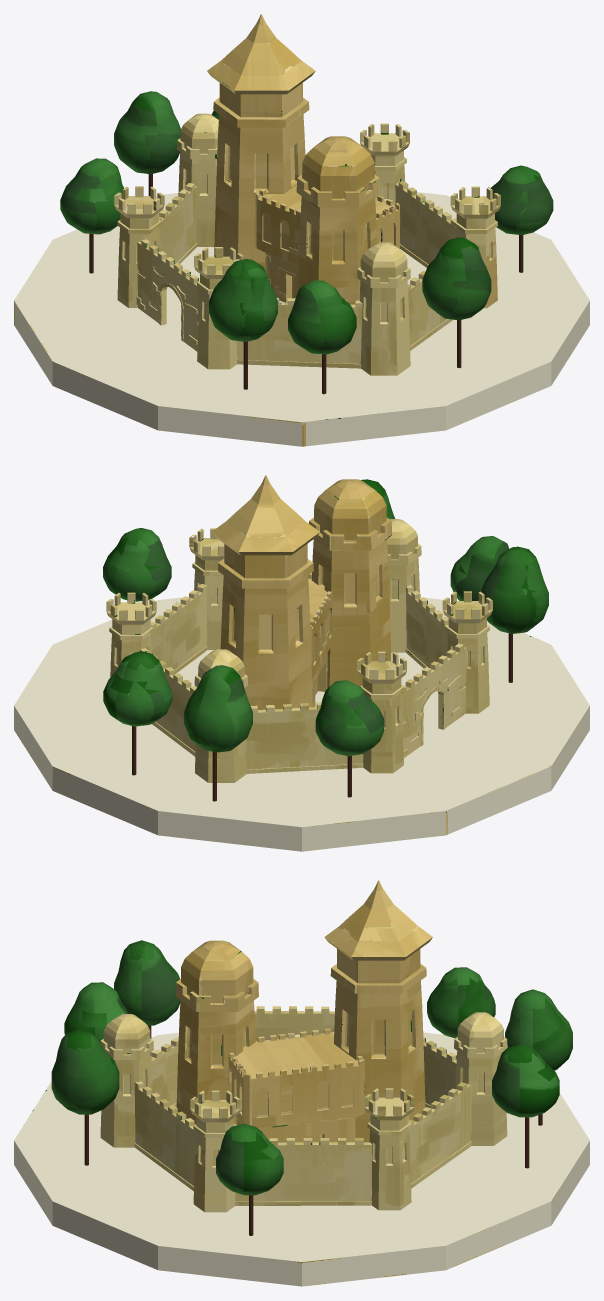
File: castle_texture.glb
The picture shows the model from 3 angles, top to bottom: view 1: azimuth 30°, elevation 25°; view 2: azimuth 150°, elevation 25°; view 3: azimuth 270°, elevation 25°; orthographic projection.
Parts seen in each view (by area): view 1: tour3.003; view 2: tour3.003; view 3: tour3.003.
Part boxes in pixels (x1,y1,x2,y2): tour3.003: (14, 14, 589, 446); tour3.003: (14, 475, 589, 851); tour3.003: (14, 880, 589, 1286).
Size of the model in its own units: 21.39 by 11.6 by 21.39.
2 materials, 1 textured.
